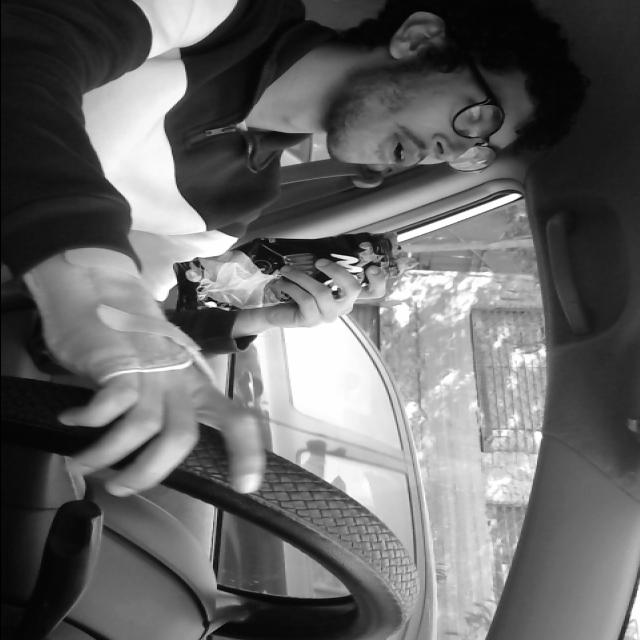eating: (168, 218, 436, 318)
